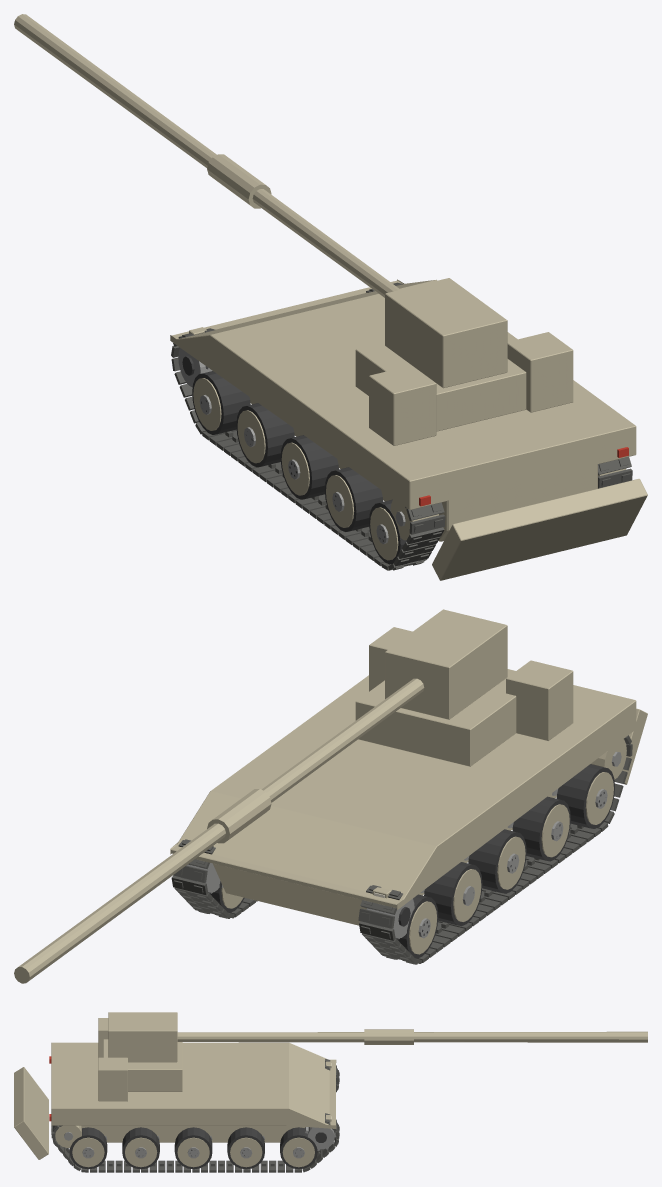
File: usa_spg_m107.glb
3 renders of one model, top to bottom at view 1: azimuth 30°, elevation 25°; view 2: azimuth 150°, elevation 25°; view 3: azimuth 270°, elevation 25°, orthographic. The views are drawn at different scales.
Visible parts, largest first — view 1: body, barrel, turret; view 2: body, barrel, turret; view 3: body, barrel, turret.
Boxes of the visible parts, x1,y1,x2,y2 form: body: (170,279,647,580); barrel: (14,14,507,388); turret: (355,342,526,431); body: (170,627,647,964); barrel: (14,609,507,983); turret: (355,674,516,766); body: (14,1018,339,1172); barrel: (108,1012,647,1062); turret: (103,1039,182,1091).
Size of the model in its own units: 3.15 by 2.67 by 12.8.
